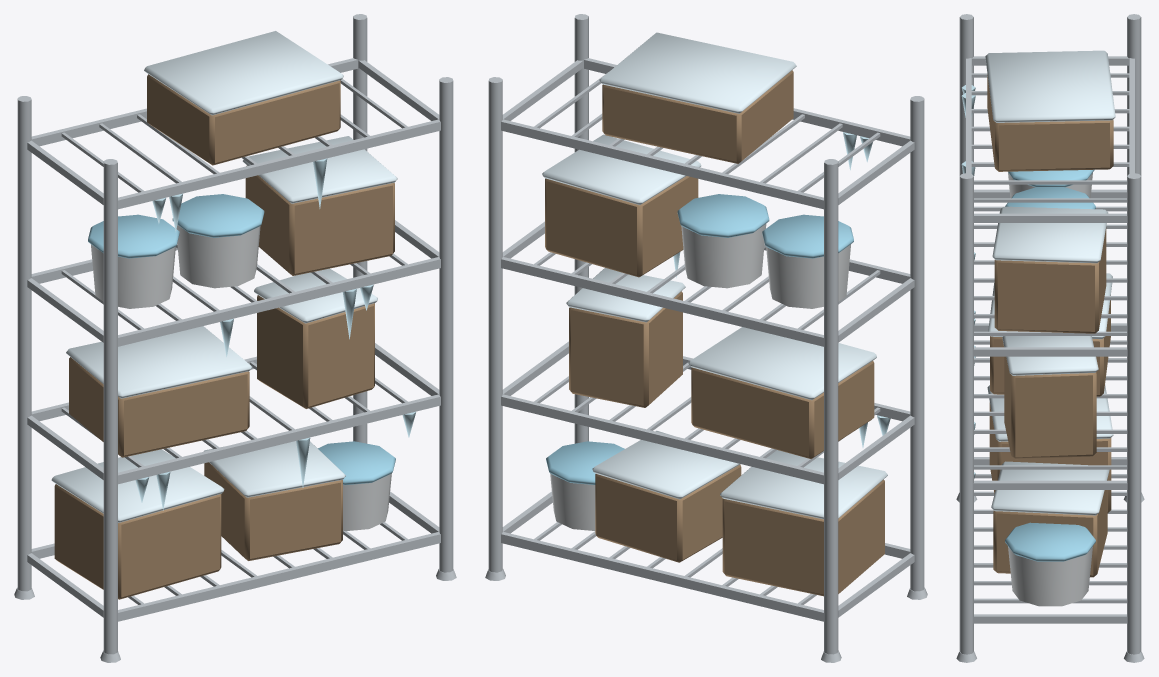
Rendered from Kitchen_FreezerRack.fbx.
3 views of the same model, side by side, from view 1: azimuth 30°, elevation 25°; view 2: azimuth 150°, elevation 25°; view 3: azimuth 270°, elevation 25° (orthographic). The views are drawn at different scales.
Parts seen in each view (by area): view 1: Boxes, Wire, Frost, Tubs, Lids, Icicles; view 2: Boxes, Wire, Frost, Tubs, Lids, Icicles; view 3: Wire, Boxes, Frost, Lids, Tubs, Icicles.
Boxes of the visible parts, left/top/right/bottom form: Boxes: left=54, top=74, right=394, bottom=599; Wire: left=14, top=14, right=456, bottom=662; Frost: left=51, top=31, right=397, bottom=522; Tubs: left=91, top=225, right=391, bottom=530; Lids: left=88, top=194, right=395, bottom=485; Icicles: left=135, top=158, right=415, bottom=510; Boxes: left=545, top=70, right=884, bottom=596; Wire: left=485, top=14, right=927, bottom=662; Frost: left=542, top=32, right=887, bottom=519; Tubs: left=550, top=224, right=850, bottom=530; Lids: left=546, top=194, right=853, bottom=484; Icicles: left=673, top=132, right=890, bottom=447; Wire: left=956, top=14, right=1144, bottom=662; Boxes: left=987, top=74, right=1113, bottom=577; Frost: left=985, top=50, right=1115, bottom=515; Lids: left=1005, top=169, right=1095, bottom=561; Tubs: left=1008, top=172, right=1092, bottom=606; Icicles: left=961, top=85, right=975, bottom=478.
Bounding box in the file's own units: 418 × 580 × 198.
